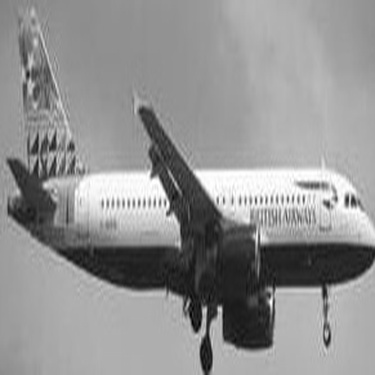airplane: (4, 4, 370, 370)
